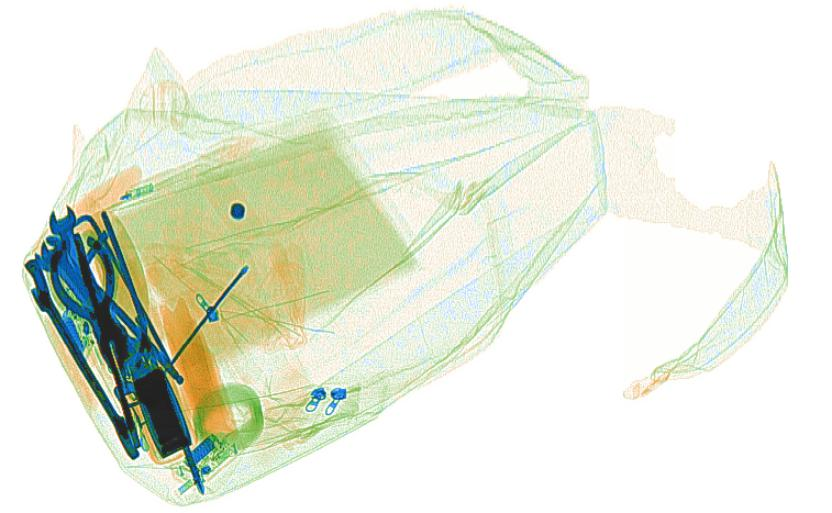battery: (180, 432, 221, 472)
